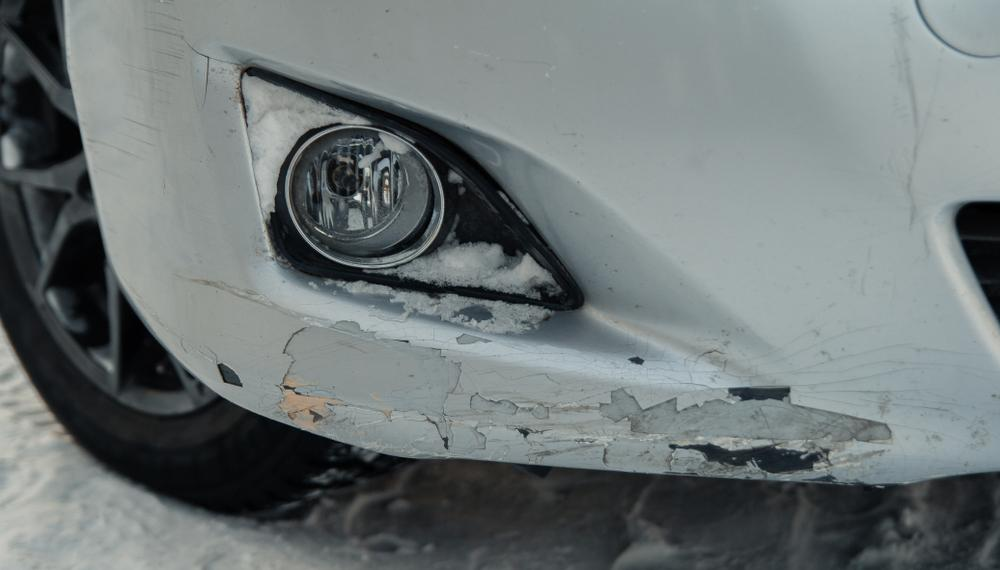scratch: (208, 307, 914, 491)
